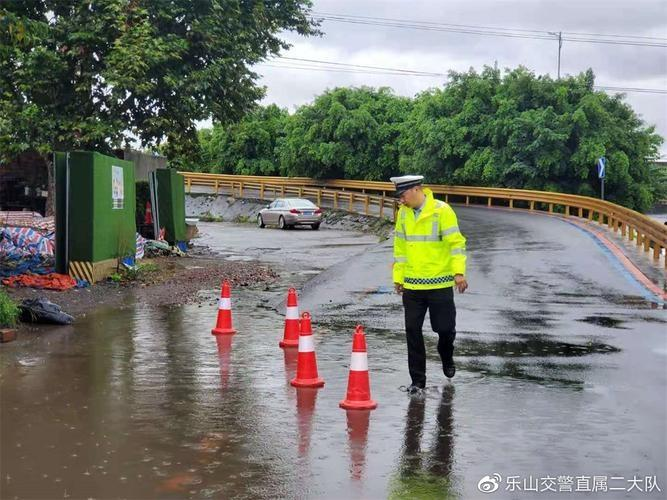cone_barrel: (335, 324, 377, 412), (290, 308, 323, 385), (207, 278, 238, 334), (277, 287, 299, 346)
